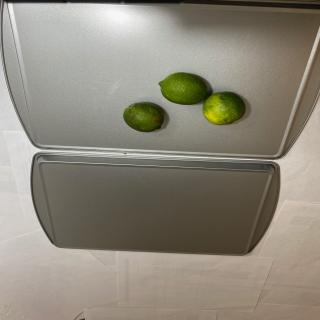Chilli: (123, 101, 164, 132)
Lemon: (158, 72, 208, 105), (202, 91, 246, 125)
